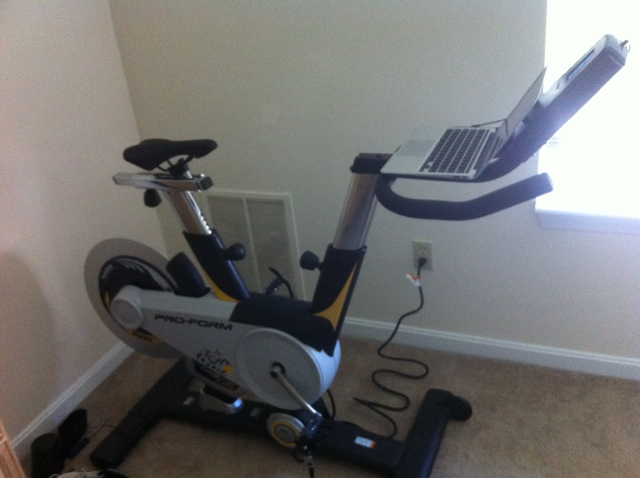gym_bike: (58, 94, 545, 477)
